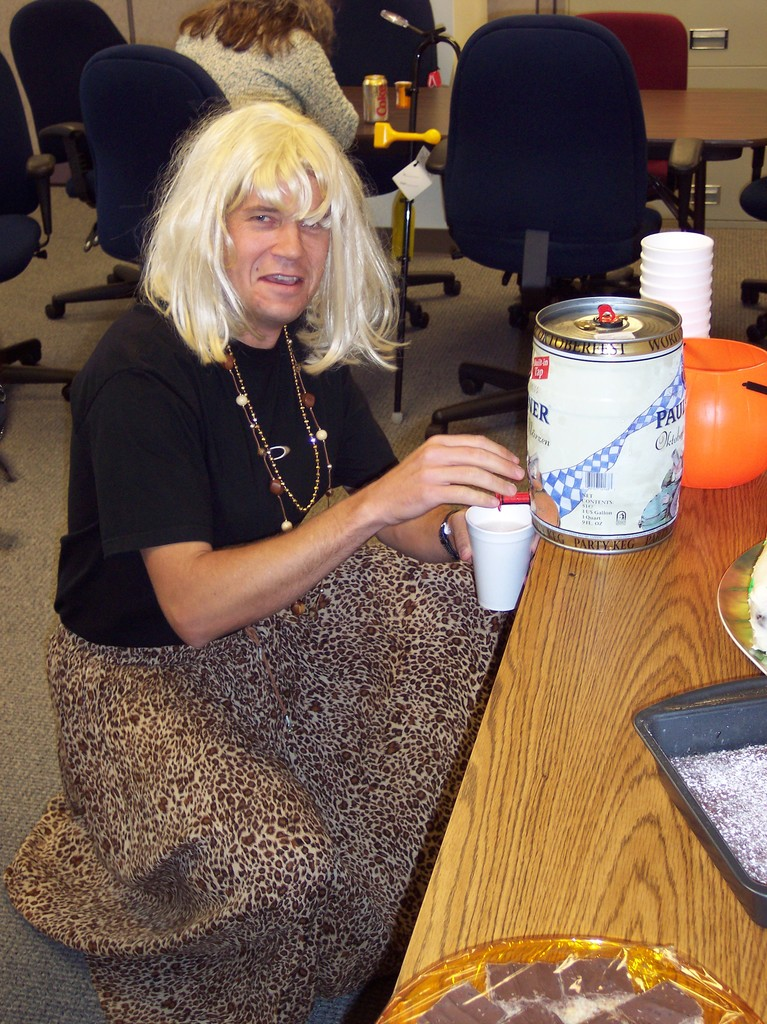Human-face: (222, 166, 335, 324)
